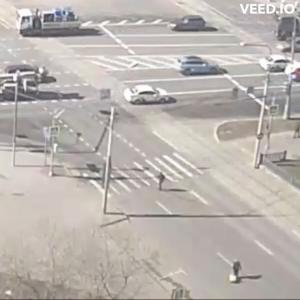car: (15, 6, 83, 38), (124, 86, 178, 107), (179, 58, 223, 78), (276, 16, 300, 52), (4, 62, 37, 83), (172, 16, 207, 34), (261, 55, 293, 74)
